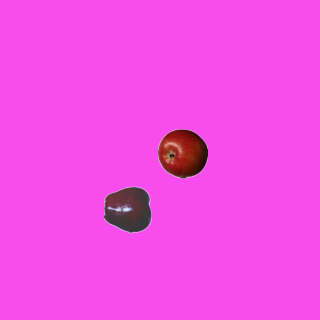Apple Braeburn: (157, 128, 207, 178)
Apple Red Delicious: (103, 184, 153, 234)
